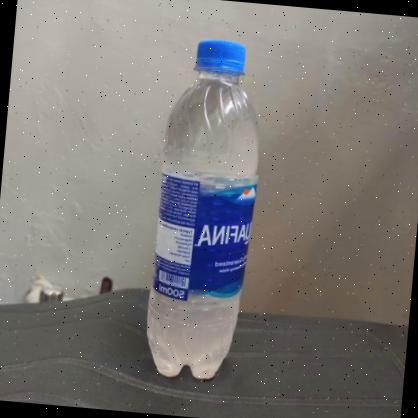bottle: (136, 33, 276, 386)
cap: (188, 38, 254, 86)
label: (152, 178, 262, 307)
